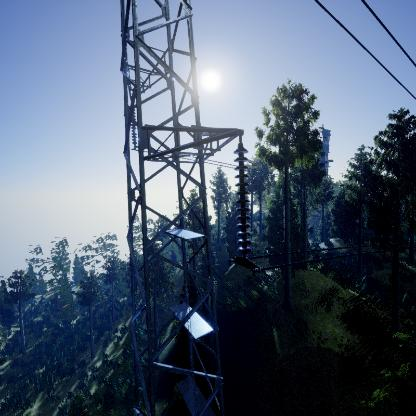insulator: (232, 145, 251, 256)
